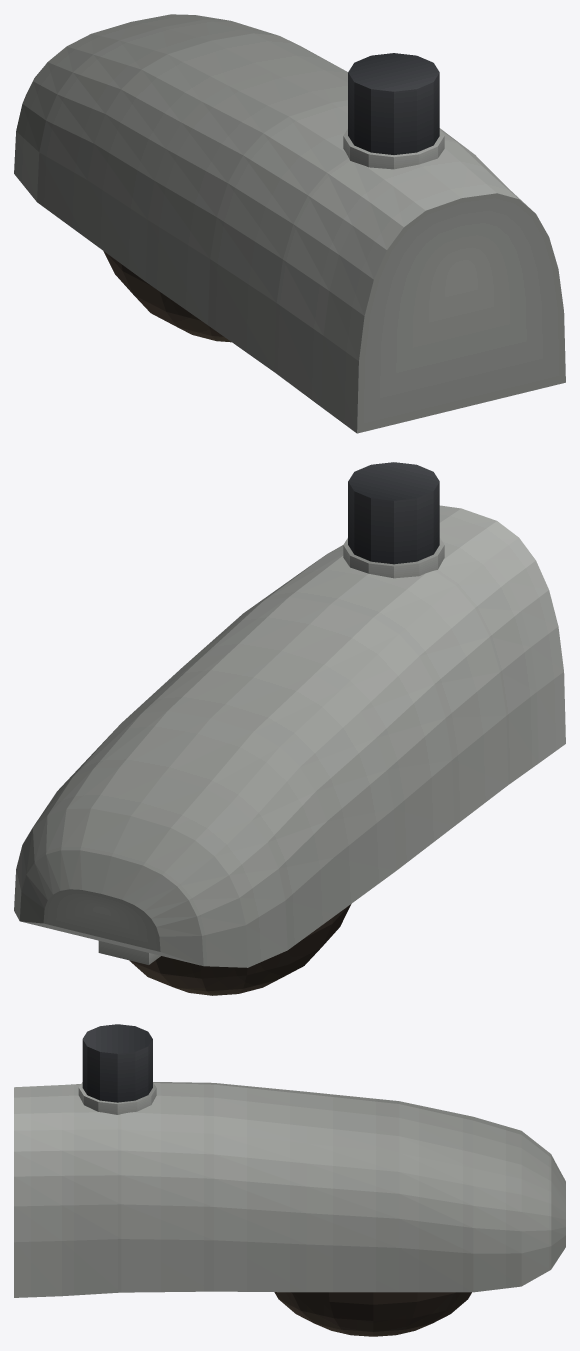
File: streetlight_gem400r3.obj
The picture shows the model from 3 angles, top to bottom: view 1: azimuth 30°, elevation 25°; view 2: azimuth 150°, elevation 25°; view 3: azimuth 270°, elevation 25°; orthographic projection. The views are drawn at different scales.
Visible parts, largest first — view 1: fixture; view 2: fixture; view 3: fixture.
Boxes of the visible parts, <box> form: fixture: <box>14,14,565,433</box>; fixture: <box>14,462,565,995</box>; fixture: <box>14,1024,565,1336</box>.
Size of the model in its own units: 0.375 by 0.5373 by 0.9312.
